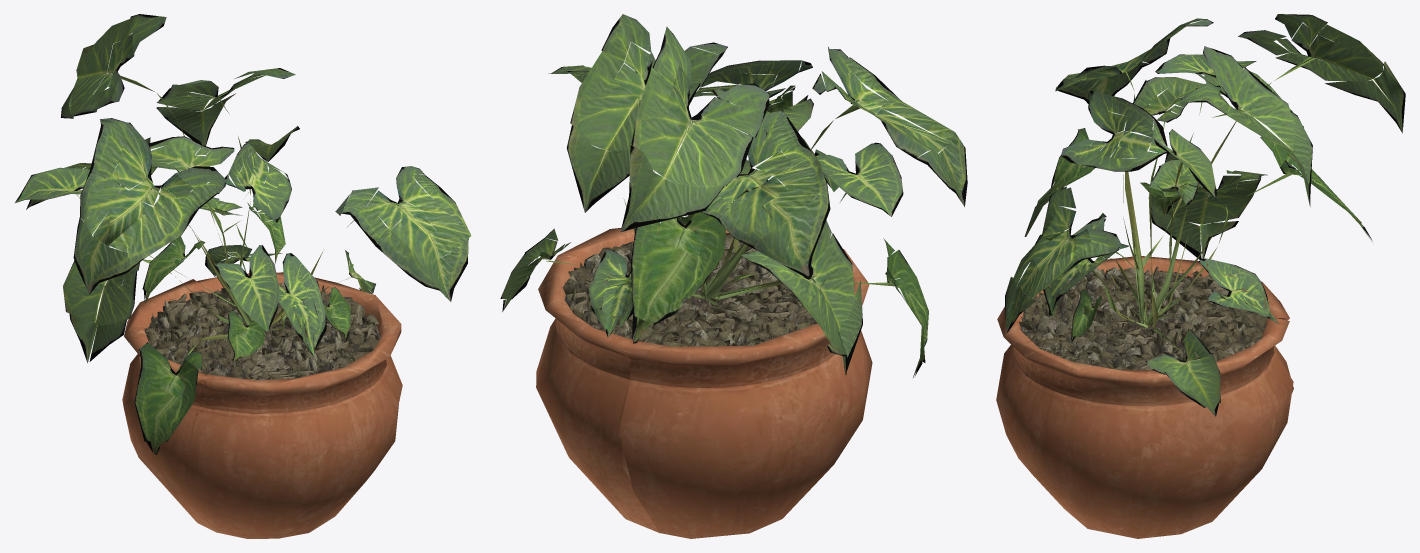
Rendered from potted_plant_02.glb.
The picture shows the model from 3 angles, left to right: view 1: azimuth 30°, elevation 25°; view 2: azimuth 150°, elevation 25°; view 3: azimuth 270°, elevation 25°; orthographic projection. The views are drawn at different scales.
Visible parts, largest first — view 1: potted_plant_02_leaves, potted_plant_02_pot, potted_plant_02_dirt; view 2: potted_plant_02_leaves, potted_plant_02_pot, potted_plant_02_dirt; view 3: potted_plant_02_leaves, potted_plant_02_pot, potted_plant_02_dirt.
Boxes of the visible parts, x1,y1,x2,y2 form: potted_plant_02_leaves: [15, 14, 471, 454]; potted_plant_02_pot: [122, 272, 402, 538]; potted_plant_02_dirt: [144, 282, 381, 395]; potted_plant_02_leaves: [500, 14, 967, 377]; potted_plant_02_pot: [536, 224, 872, 538]; potted_plant_02_dirt: [562, 231, 826, 357]; potted_plant_02_leaves: [1005, 14, 1405, 416]; potted_plant_02_pot: [996, 256, 1293, 538]; potted_plant_02_dirt: [1019, 266, 1269, 370].
Bounding box in the file's own units: 0.6977 × 0.8422 × 0.6578.
Materials: 2 (2 with a texture image).
